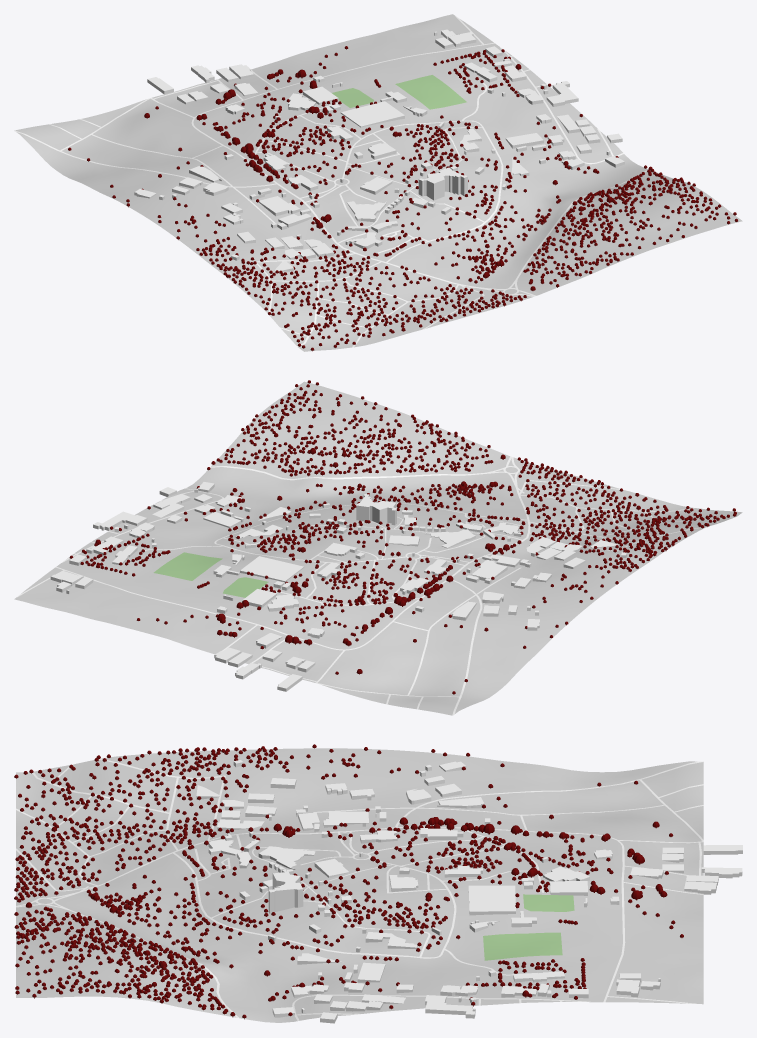
File: map.glb
The picture shows the model from 3 angles, top to bottom: view 1: azimuth 30°, elevation 25°; view 2: azimuth 150°, elevation 25°; view 3: azimuth 270°, elevation 25°; orthographic projection. The views are drawn at different scales.
Parts seen in each view (by area): view 1: Obj_SubDMesh_212, Obj_SubDMesh_211, Obj_SubDMesh_107, Obj_SubDMesh_57, Obj_SubDMesh_172; view 2: Obj_SubDMesh_212, Obj_SubDMesh_211, Obj_SubDMesh_57, Obj_SubDMesh_107, Obj_SubDMesh_170, Obj_SubDMesh_210; view 3: Obj_SubDMesh_212, Obj_SubDMesh_211, Obj_SubDMesh_57, Obj_SubDMesh_107, Obj_SubDMesh_172, Obj_SubDMesh_210, Obj_SubDMesh_31, Obj_SubDMesh_103, Obj_SubDMesh_80, Obj_SubDMesh_54, Obj_SubDMesh_16, Obj_SubDMesh_53 (+1 smaller).
Part boxes in pixels (x1,y1,x2,y2): Obj_SubDMesh_212: (14, 14, 742, 351); Obj_SubDMesh_211: (395, 75, 466, 109); Obj_SubDMesh_107: (418, 167, 467, 200); Obj_SubDMesh_57: (340, 101, 404, 127); Obj_SubDMesh_172: (346, 120, 503, 262); Obj_SubDMesh_212: (14, 381, 742, 715); Obj_SubDMesh_211: (153, 552, 222, 580); Obj_SubDMesh_57: (240, 556, 304, 582); Obj_SubDMesh_107: (356, 494, 396, 525); Obj_SubDMesh_170: (210, 466, 485, 480); Obj_SubDMesh_210: (223, 577, 268, 597); Obj_SubDMesh_212: (16, 748, 703, 1022); Obj_SubDMesh_211: (483, 932, 562, 960); Obj_SubDMesh_57: (468, 885, 515, 915); Obj_SubDMesh_107: (268, 869, 303, 914); Obj_SubDMesh_172: (173, 853, 456, 958); Obj_SubDMesh_210: (523, 894, 574, 911); Obj_SubDMesh_31: (425, 995, 475, 1018); Obj_SubDMesh_103: (258, 846, 315, 869); Obj_SubDMesh_80: (323, 811, 368, 827); Obj_SubDMesh_54: (550, 881, 587, 895); Obj_SubDMesh_16: (365, 932, 417, 949); Obj_SubDMesh_53: (543, 866, 589, 881).
Bounding box in the file's own units: 869 × 72.28 × 1012.
